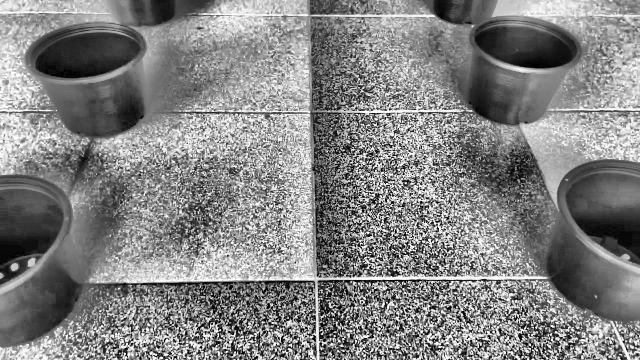pot: (23, 22, 150, 138), (550, 160, 640, 320), (0, 175, 82, 348), (466, 16, 584, 125)
